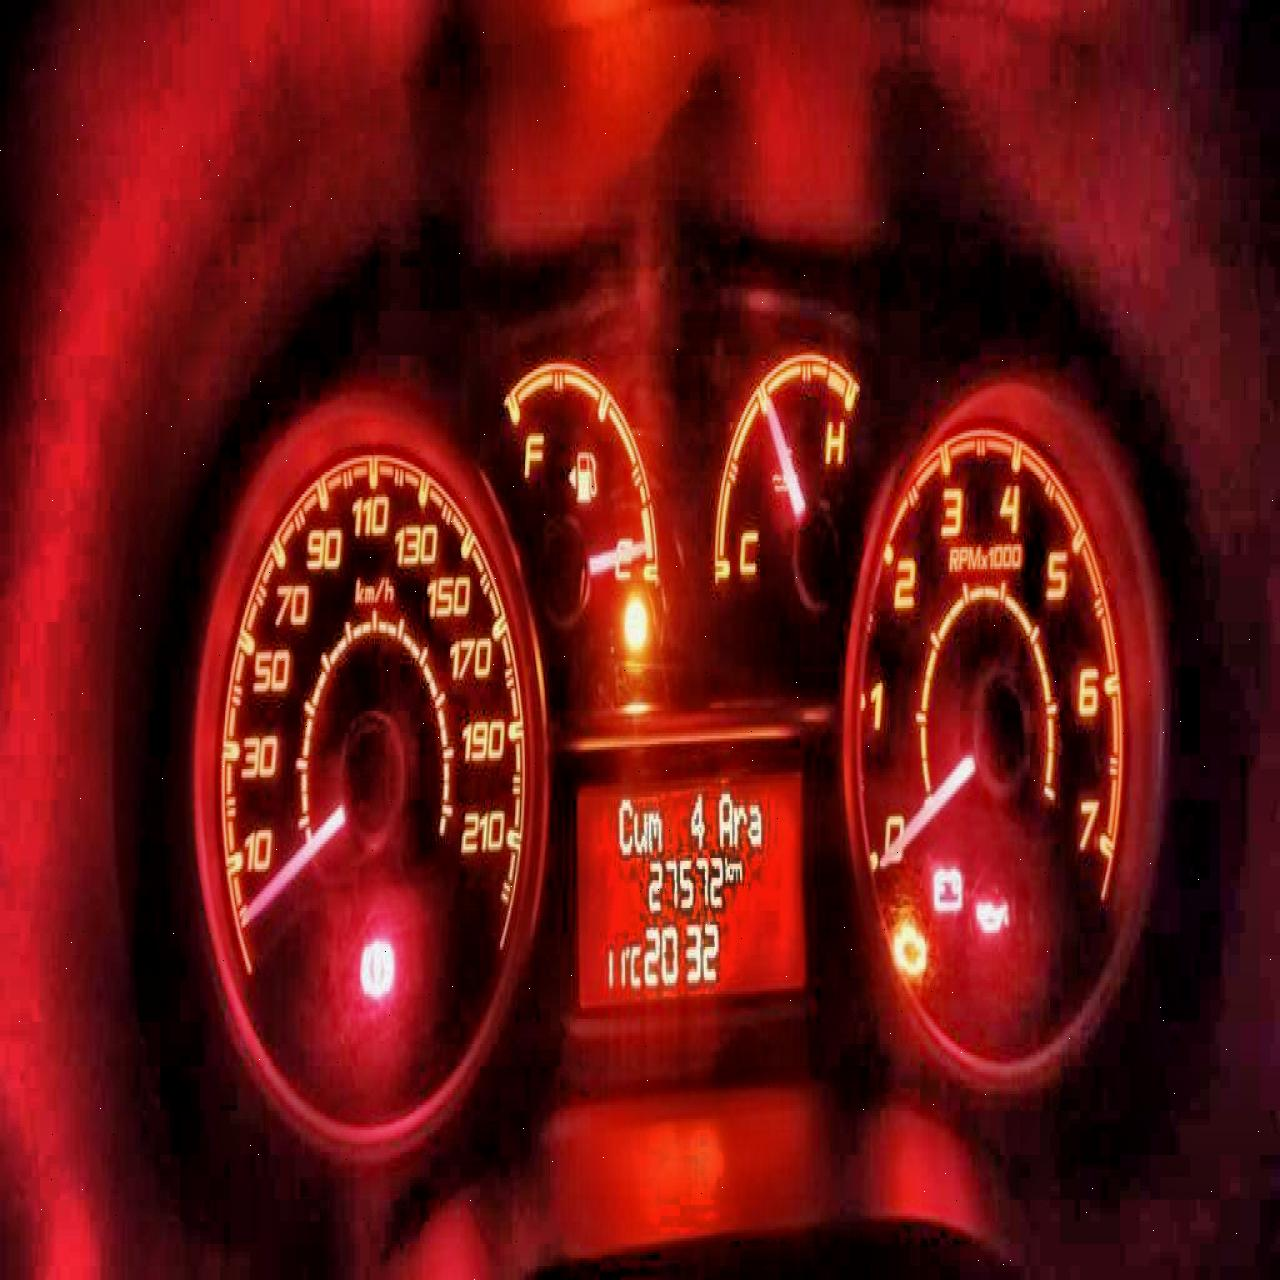0: (660, 919, 676, 989)
1: (605, 941, 615, 988), (619, 944, 625, 990)
2: (642, 919, 660, 989), (701, 917, 719, 982), (708, 850, 722, 911), (647, 856, 661, 911)
3: (682, 917, 700, 986)
4: (688, 787, 707, 847)
5: (678, 852, 692, 907)
7: (663, 856, 678, 911), (694, 852, 708, 907)
X: (615, 791, 633, 856), (717, 787, 733, 847), (747, 799, 763, 847), (633, 805, 647, 855), (647, 805, 661, 855), (733, 799, 747, 847), (629, 941, 640, 988), (731, 855, 741, 883), (724, 852, 730, 883)
odometer: (572, 758, 808, 1016)
